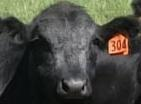muzzles: (53, 75, 92, 101)
